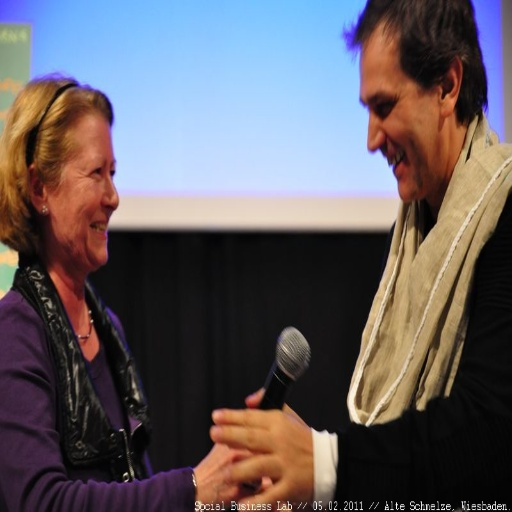hand: (195, 395, 327, 491), (193, 441, 272, 510)
